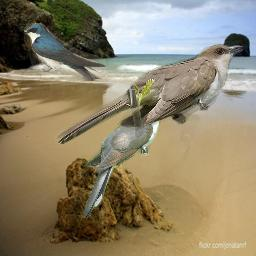Cuckoo: (54, 43, 243, 144), (82, 98, 175, 218)
Swallow: (24, 23, 106, 81)
